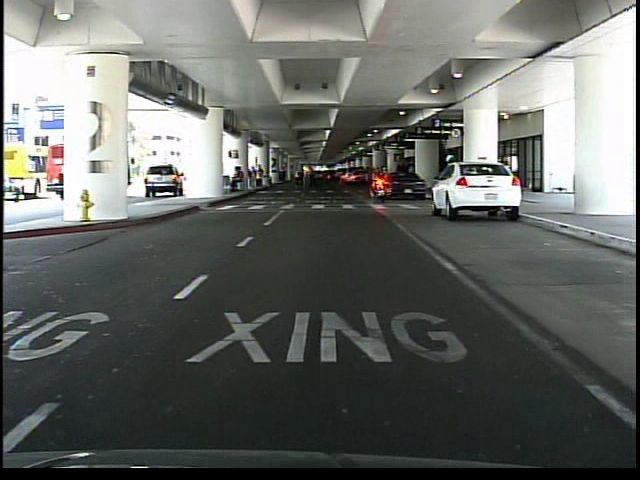person: (441, 151, 458, 214)
